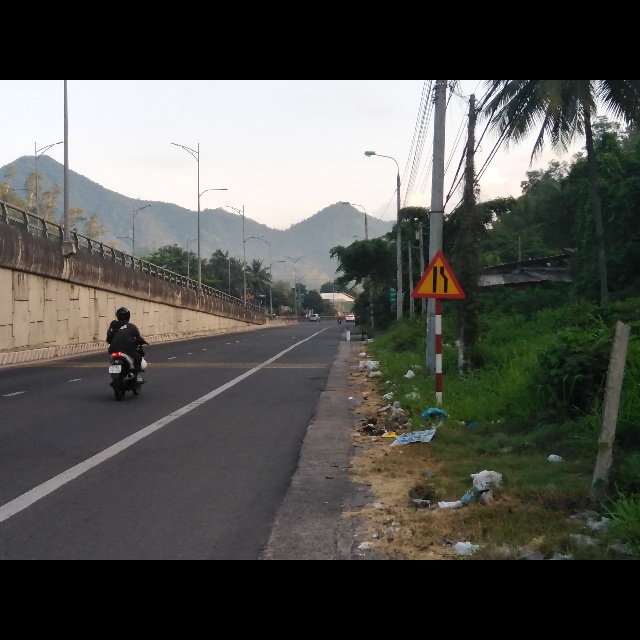Đường bị hẹp bên phải: (411, 249, 469, 298)
